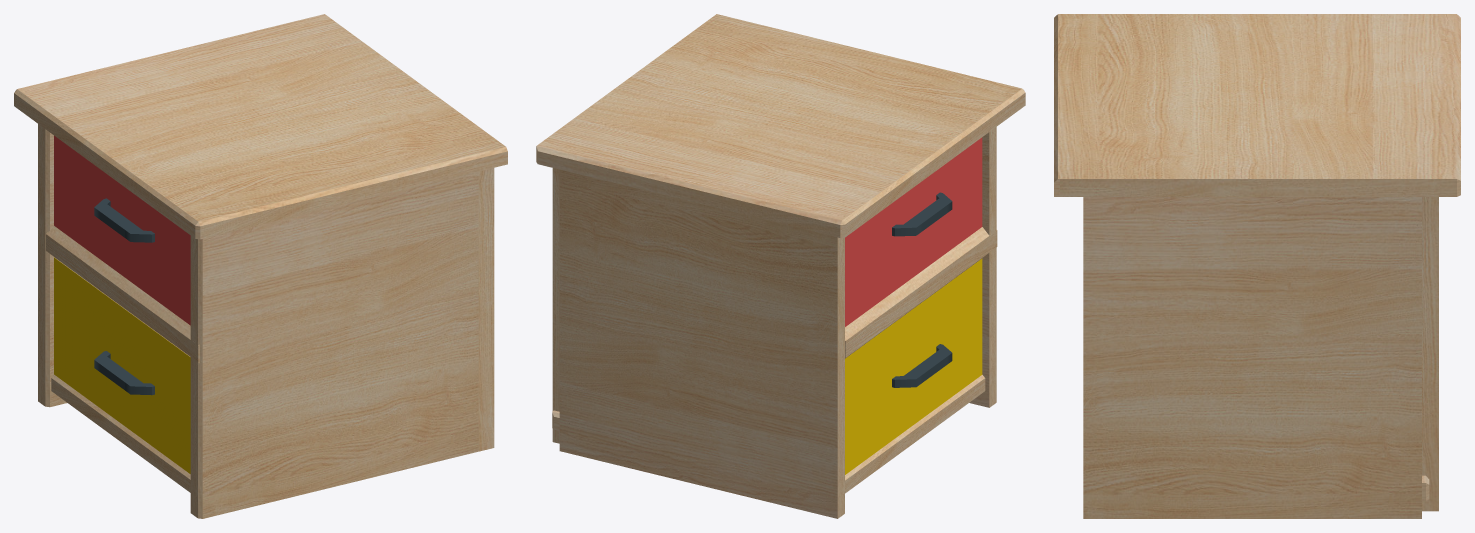
The model's file is Side_Desk_Collider.fbx.
3 views of the same model, side by side, from view 1: azimuth 30°, elevation 25°; view 2: azimuth 150°, elevation 25°; view 3: azimuth 270°, elevation 25° (orthographic). The views are drawn at different scales.
Parts seen in each view (by area): view 1: Side_Desk_Collider; view 2: Side_Desk_Collider; view 3: Side_Desk_Collider.
Boxes of the visible parts, box(x1,y1,x2,y2) form: Side_Desk_Collider: box(14, 14, 507, 518); Side_Desk_Collider: box(536, 14, 1025, 518); Side_Desk_Collider: box(1054, 14, 1460, 518).
Size of the model in its own units: 111 by 106 by 114.
